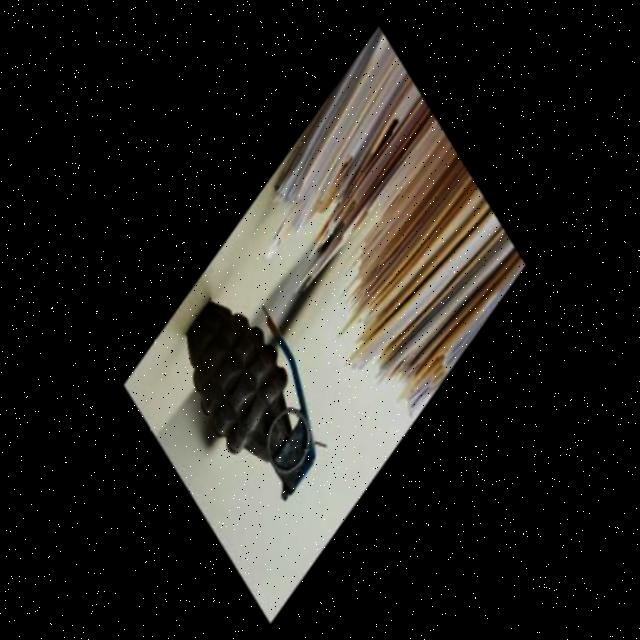grenade: (136, 275, 366, 539)
